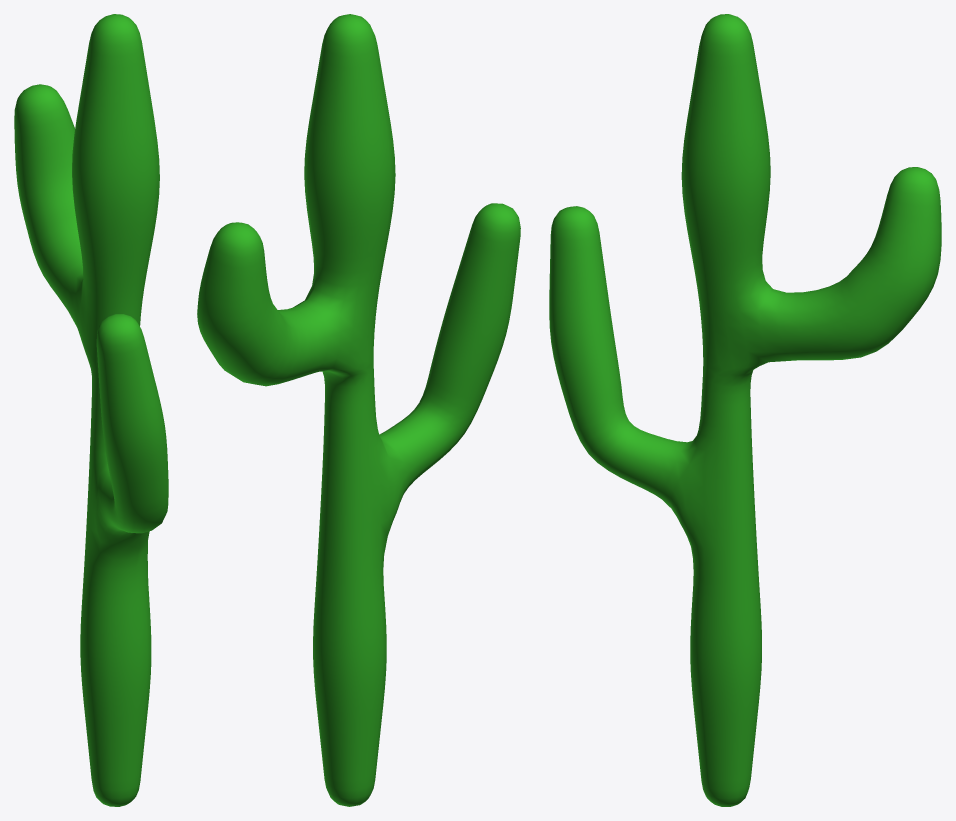
Rendered from cactus.obj.
The picture shows the model from 3 angles, left to right: view 1: azimuth 30°, elevation 25°; view 2: azimuth 150°, elevation 25°; view 3: azimuth 270°, elevation 25°; orthographic projection.
Visible parts, largest first — view 1: 1_cactus_Cube.001; view 2: 1_cactus_Cube.001; view 3: 1_cactus_Cube.001.
Part boxes in pixels (bbox=[...]): 1_cactus_Cube.001: bbox=[14, 14, 168, 806]; 1_cactus_Cube.001: bbox=[197, 14, 520, 806]; 1_cactus_Cube.001: bbox=[549, 14, 941, 806].
Bounding box in the file's own units: 2.24 × 10.97 × 4.95.
